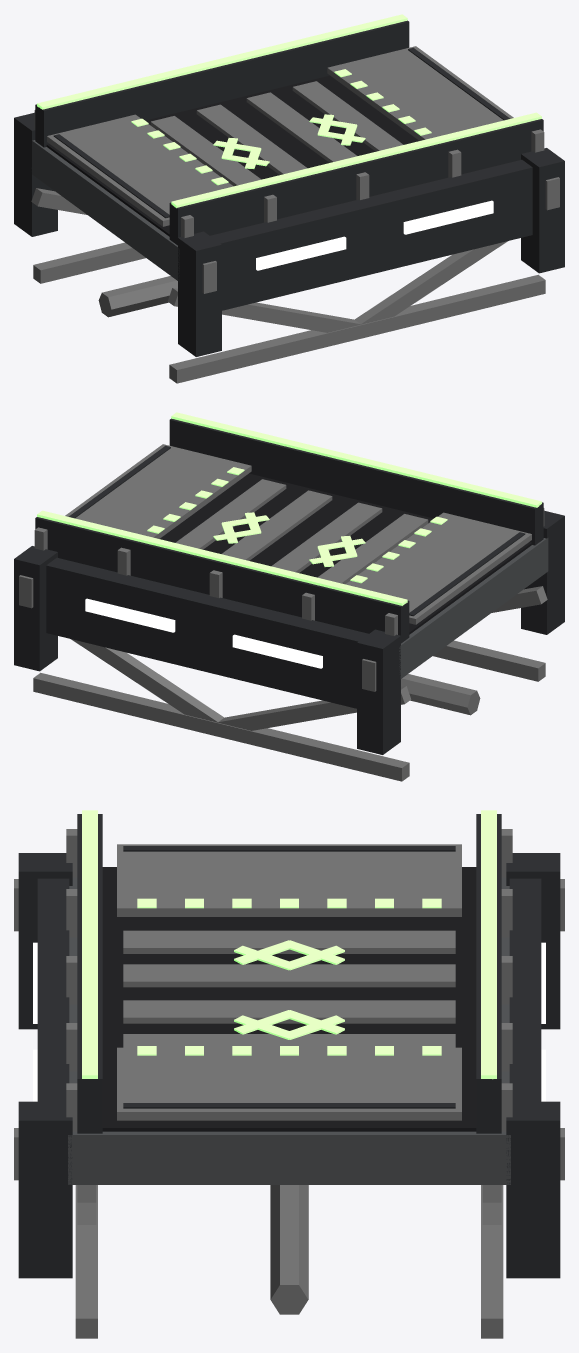
File: Deck_Conveyor_Belt_v4_4.glb
3 renders of one model, top to bottom at view 1: azimuth 30°, elevation 25°; view 2: azimuth 150°, elevation 25°; view 3: azimuth 270°, elevation 25°, orthographic. The views are drawn at different scales.
Parts seen in each view (by area): view 1: Deck_Conveyor_Belt_v4_4, Treads, TreadsRev; view 2: Deck_Conveyor_Belt_v4_4, Treads, TreadsRev; view 3: Deck_Conveyor_Belt_v4_4, Treads, TreadsRev.
Part boxes in pixels (x1,y1,x2,y2): Deck_Conveyor_Belt_v4_4: (14, 14, 564, 383); Treads: (151, 81, 403, 183); TreadsRev: (150, 81, 402, 186); Deck_Conveyor_Belt_v4_4: (14, 412, 564, 781); Treads: (176, 479, 427, 582); TreadsRev: (175, 479, 428, 584); Deck_Conveyor_Belt_v4_4: (14, 810, 564, 1338); Treads: (123, 930, 455, 1047); TreadsRev: (123, 940, 455, 1047).
Bounding box in the file's own units: 4.05 × 1.83 × 3.48.
